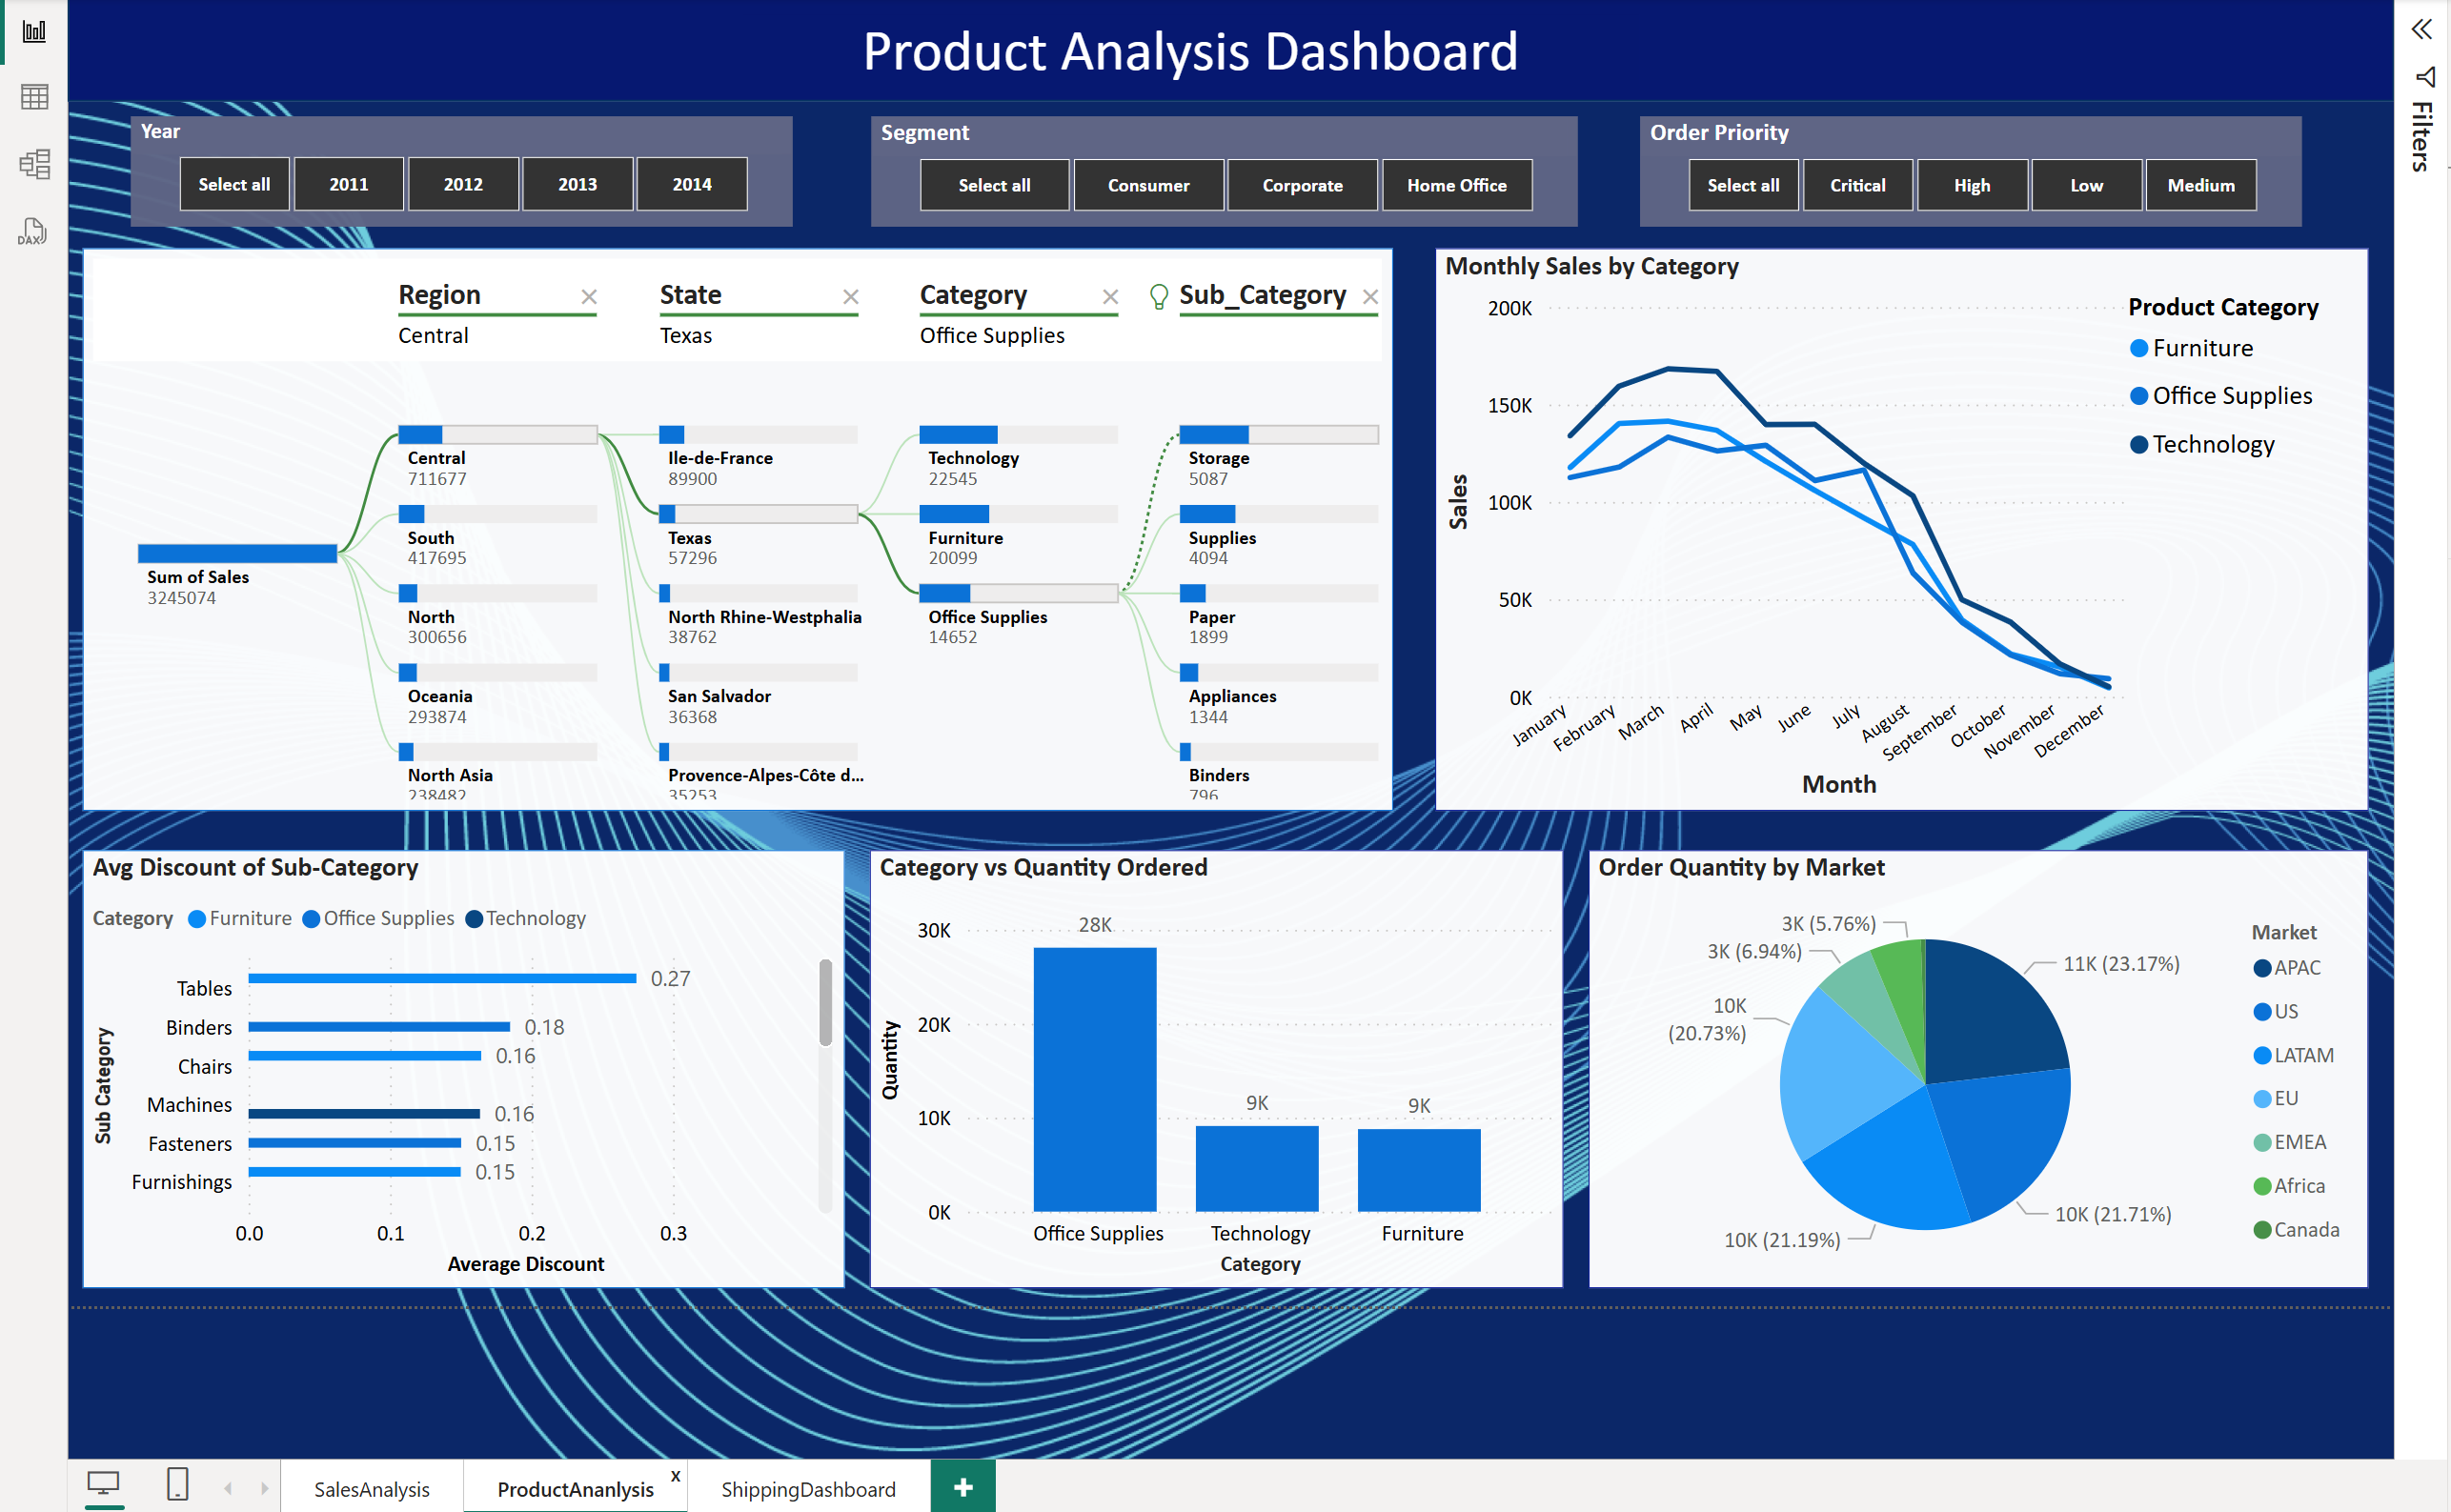

What the dashboard file says about the page in this screenshot:
{"tool":"powerbi","page":{"name":"ProductAnanlysis","canvas":[1280,720],"ordinal":1},"visuals":[{"type":"shape","box":[0,0,1280.2,57],"z":0},{"type":"textbox","title":"Product Analysis Dashboard","box":[372.1,9.3,493,38.4],"z":1000},{"type":"slicer","title":"Year","fields":{"Values":["SuperStoreOrders2.order_date.Variation.Date Hierarchy.Year"]},"box":[34.9,65.1,364,60.5],"z":2000},{"type":"slicer","title":"Segment","fields":{"Values":["SuperStoreOrders2.segment"]},"box":[441.9,65.1,388.4,60.5],"z":3000},{"type":"decompositionTreeVisual","fields":{"ExplainBy":["SuperStoreOrders2.region","SuperStoreOrders2.State","SuperStoreOrders2.category","SuperStoreOrders2.Sub_Category"],"Analyze":["Sum(SuperStoreOrders2.Sales)"]},"box":[7.9,137.5,721.1,309.9],"z":4000},{"type":"clusteredBarChart","title":"Avg Discount of Sub-Category","fields":{"Y":["Sum(SuperStoreOrders2.discount)"],"Category":["SuperStoreOrders2.Sub_Category"],"Series":["SuperStoreOrders2.category"]},"box":[7.9,468.7,419.2,241.1],"z":5000},{"type":"columnChart","title":"Category vs Quantity Ordered","fields":{"Y":["Sum(SuperStoreOrders2.quantity)"],"Category":["SuperStoreOrders2.category"]},"box":[441.7,468.7,382,241.1],"z":6000},{"type":"lineChart","title":"Monthly Sales by Category","fields":{"Y":["Sum(SuperStoreOrders2.sales)"],"Category":["SuperStoreOrders2.order_date.Variation.Date Hierarchy.Month"],"Series":["SuperStoreOrders2.category"]},"box":[752.7,137.5,513.8,309.9],"z":7000},{"type":"pieChart","title":"Order Quantity by Market","fields":{"Category":["SuperStoreOrders2.Market"],"Y":["Sum(SuperStoreOrders2.quantity)"]},"box":[837.2,468.7,429.3,241.1],"z":8000},{"type":"slicer","title":"Order Priority","fields":{"Values":["SuperStoreOrders2.order_priority"]},"box":[865.1,65.1,364,60.5],"z":9000}]}

Visuals, with their boxes in screenshot pixels (x1, y1, x2, y2):
shape: <region>57, 0, 2389, 91</region>
"Product Analysis Dashboard" textbox: <region>735, 4, 1633, 74</region>
"Year" slicer: <region>121, 106, 784, 216</region>
"Segment" slicer: <region>862, 106, 1570, 216</region>
decompositionTreeVisual - SuperStoreOrders2.region x SuperStoreOrders2.State: <region>71, 237, 1386, 802</region>
"Avg Discount of Sub-Category" clusteredBarChart: <region>71, 840, 836, 1280</region>
"Category vs Quantity Ordered" columnChart: <region>862, 840, 1558, 1280</region>
"Monthly Sales by Category" lineChart: <region>1428, 237, 2364, 802</region>
"Order Quantity by Market" pieChart: <region>1582, 840, 2364, 1280</region>
"Order Priority" slicer: <region>1633, 106, 2297, 216</region>
